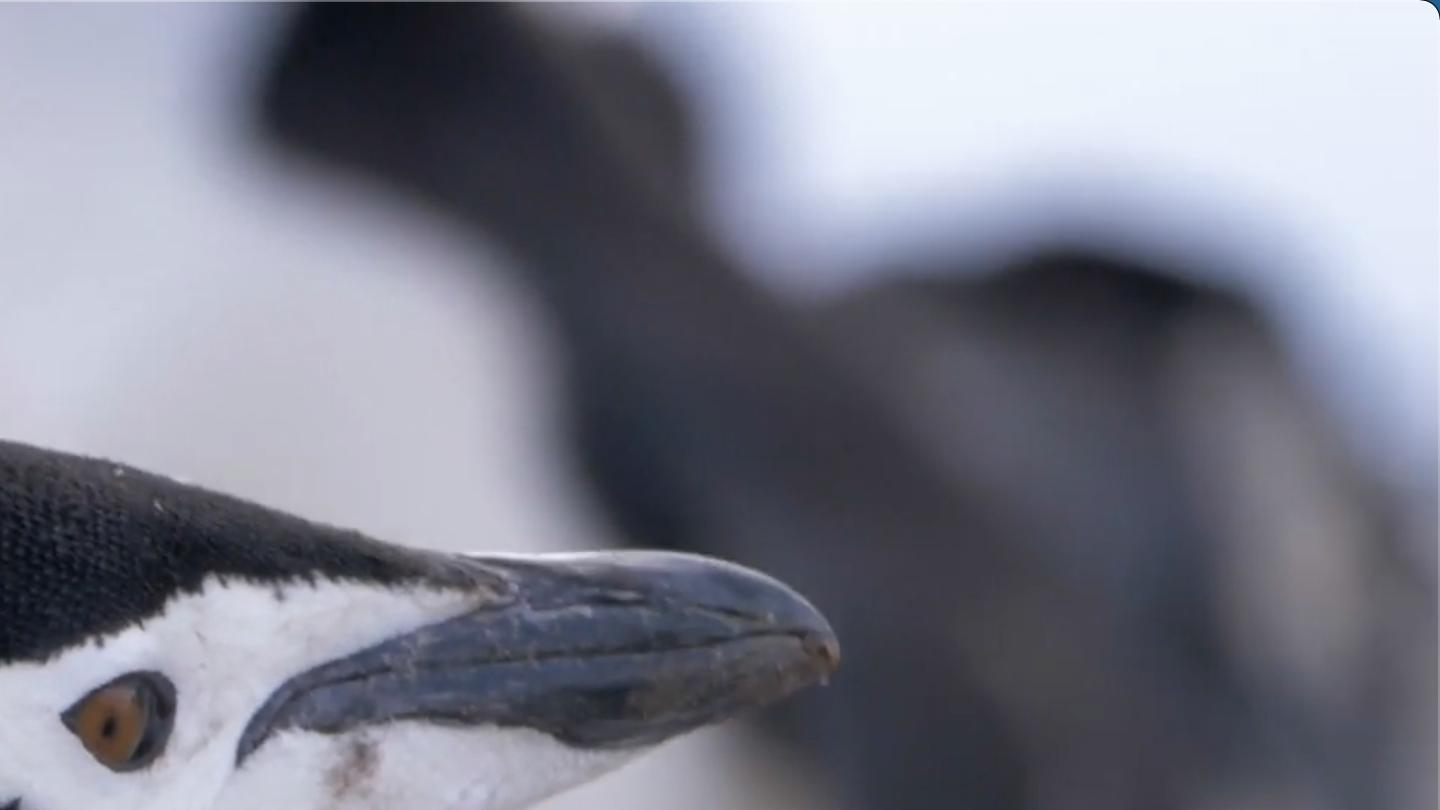Chinstrap Penguin: (0, 410, 881, 810)
